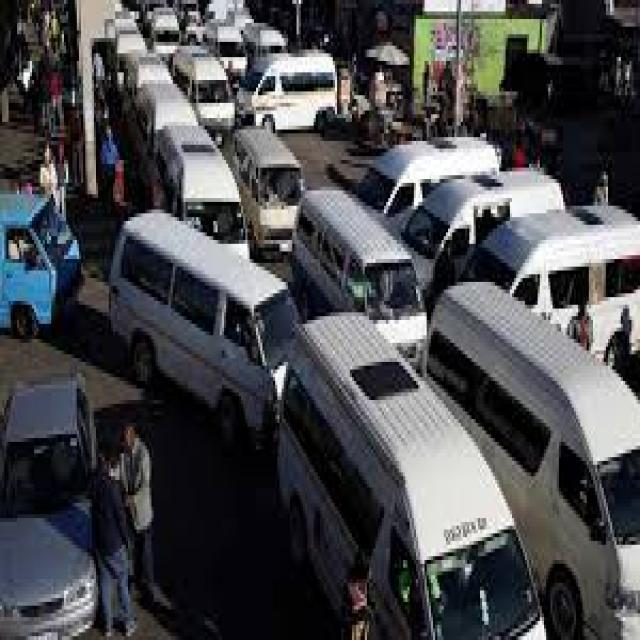MiniBus taxi: (288, 324, 548, 640), (426, 266, 640, 636), (104, 213, 298, 457), (284, 179, 429, 392), (232, 53, 342, 137), (250, 152, 307, 267), (173, 46, 237, 141)
